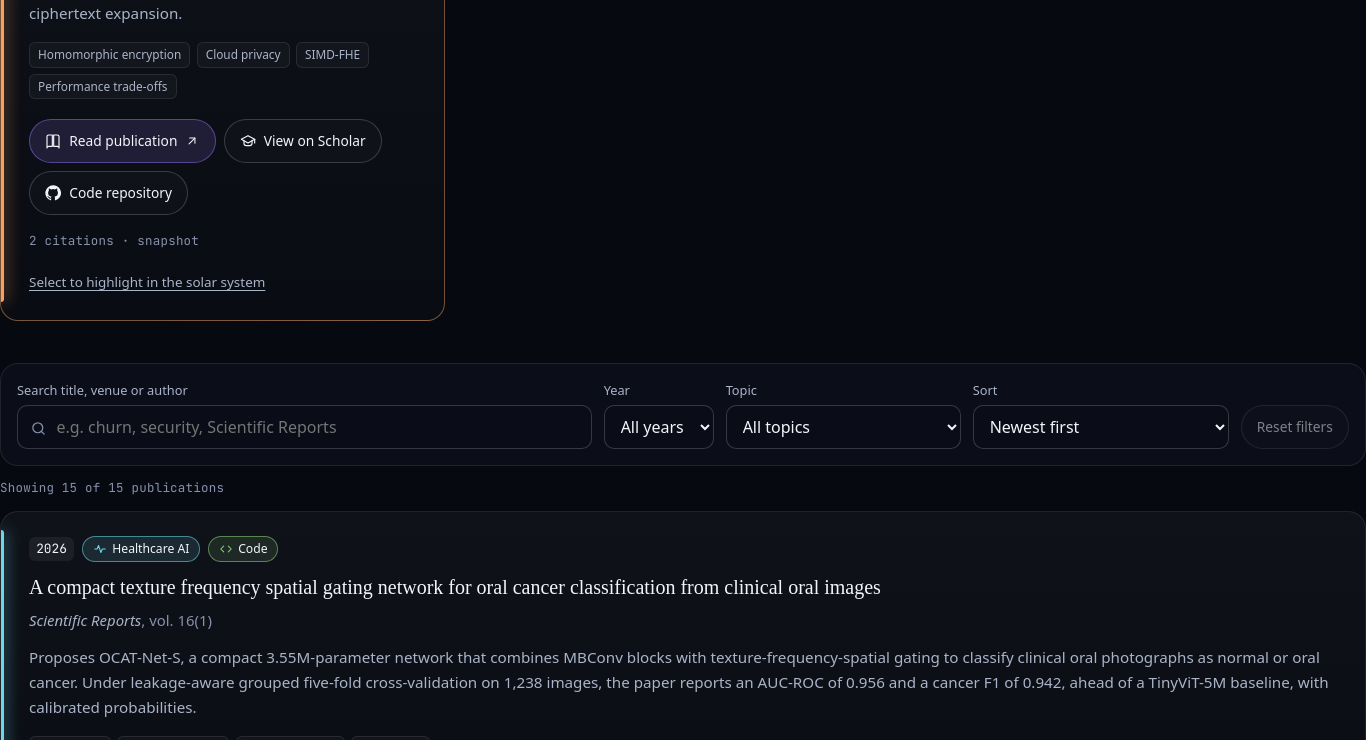
PublicationDirectory › filters by search text, shows an empty state, and resets
(page scrolled)
Type "churn" into the search field labelled "Search title, venue or author" at (304, 427), box left=17, top=405, right=592, bottom=449
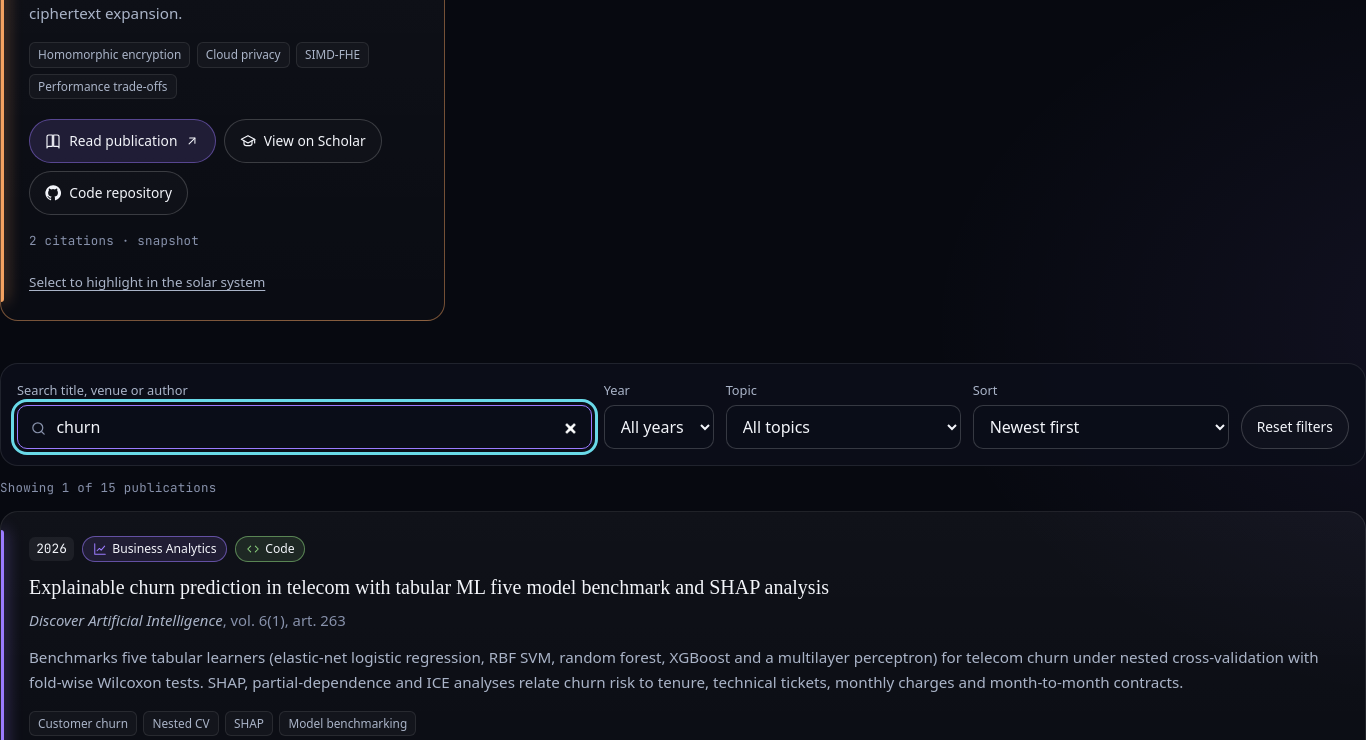
Expected: the text "Showing 1 of 15 publications" is shown, left=0, top=479, right=216, bottom=496
Replace the text in the search field labelled "Search title, venue or author" with "qqqqzz" at (304, 427), box left=17, top=405, right=592, bottom=449
(page scrolled)
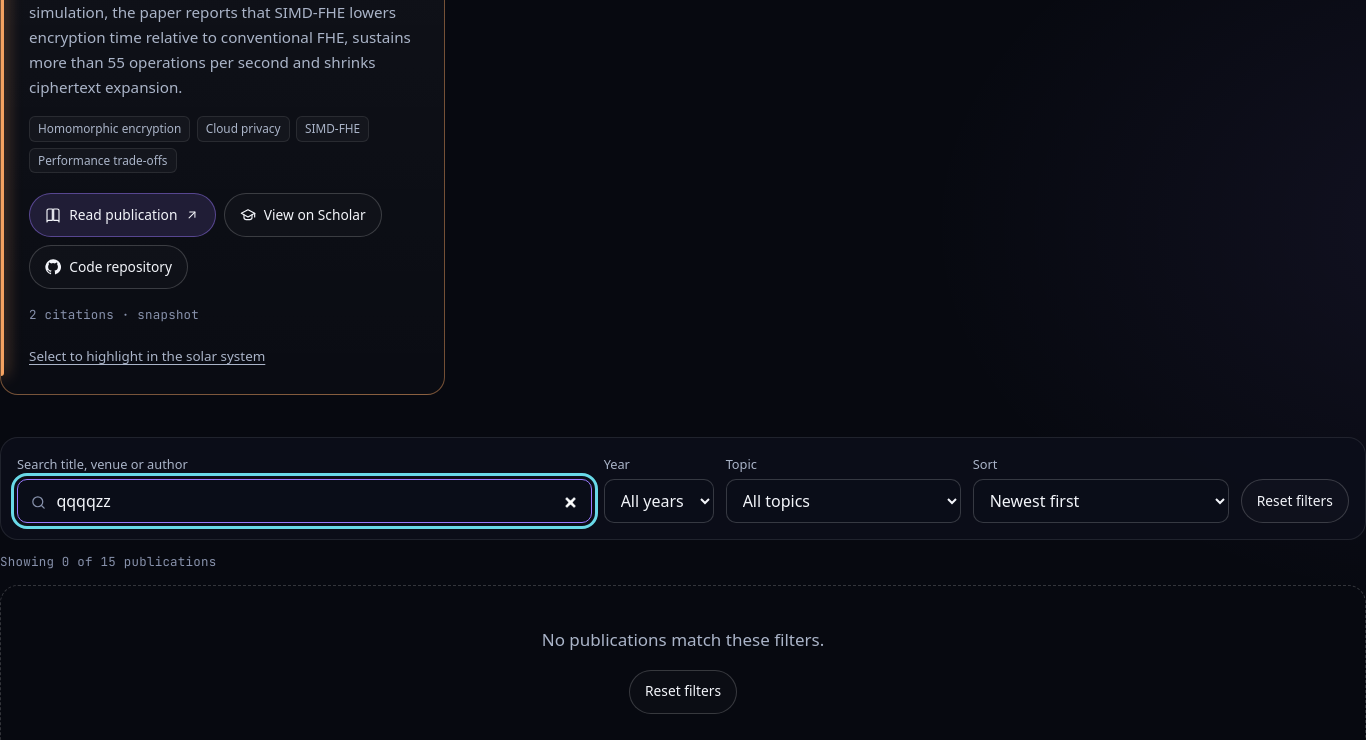
Expected: the text "No publications match these filters." is shown, left=542, top=628, right=824, bottom=651
Click the button "Reset filters" below "Sort" at (1295, 501), box left=1241, top=479, right=1349, bottom=523
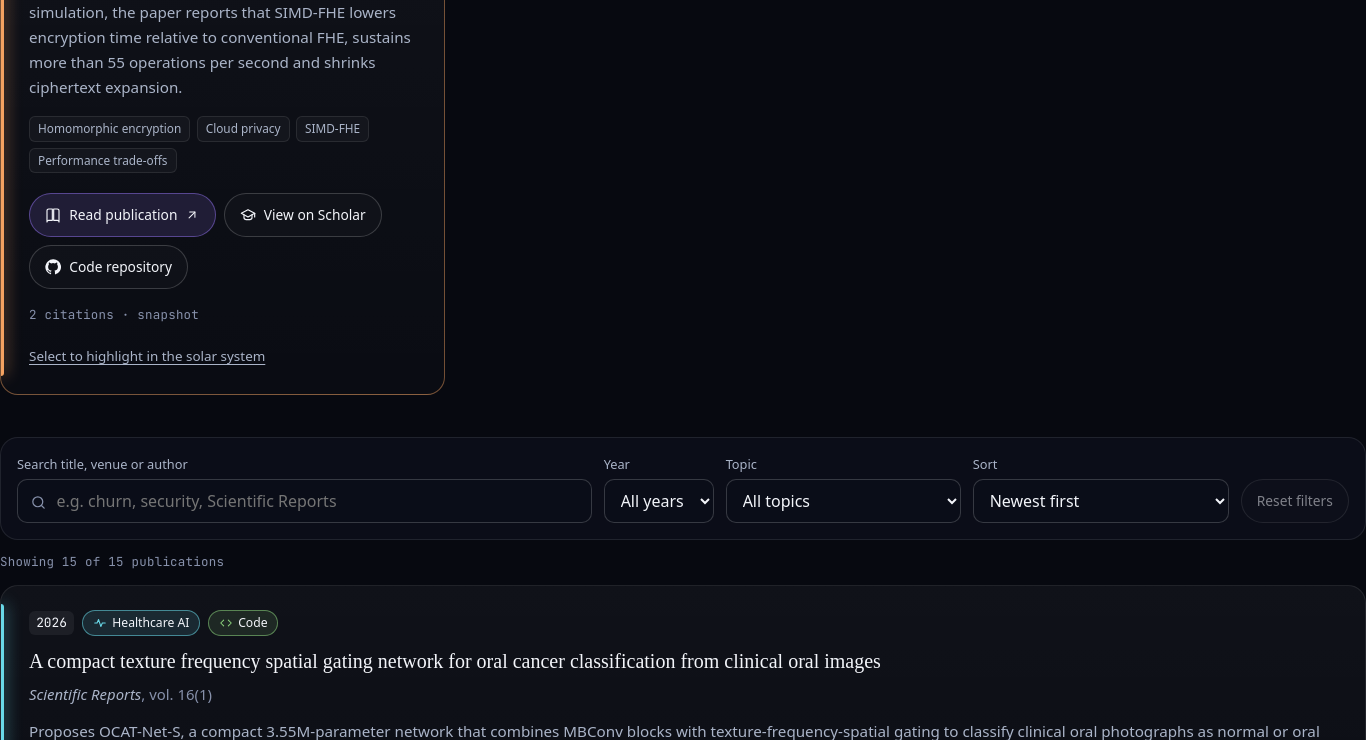
Expected: the text "Showing 15 of 15 publications" is shown, left=0, top=553, right=224, bottom=570
